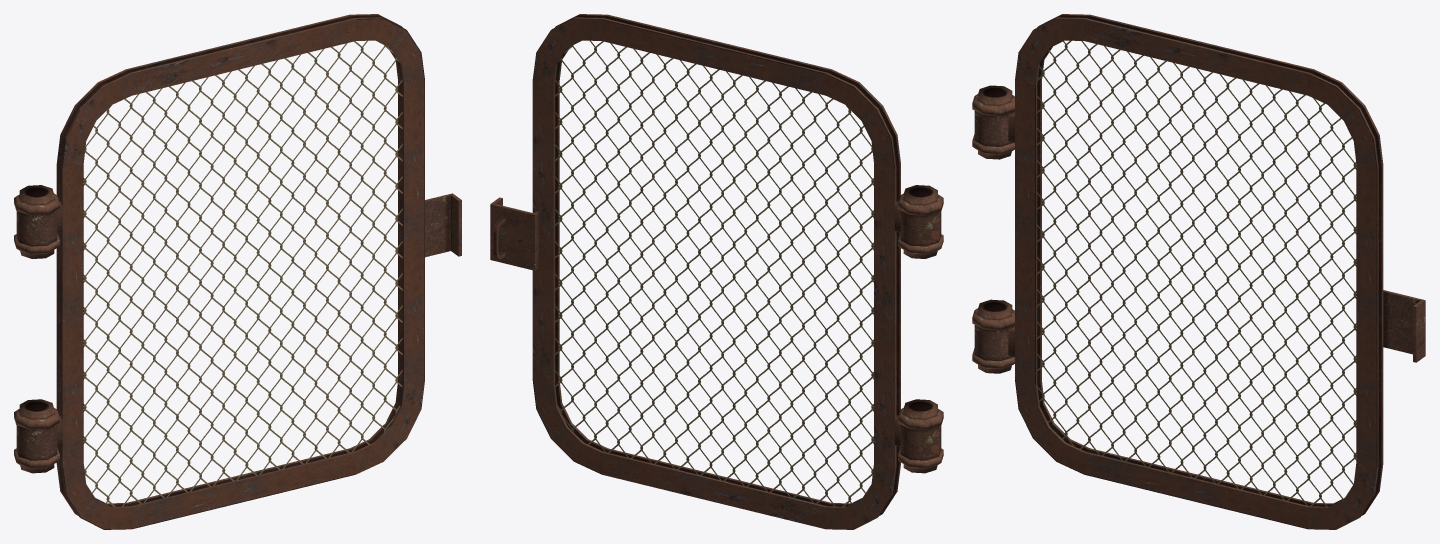
The model's file is swingdoor_scaffold_right.dae.
3 renders of one model, left to right at view 1: azimuth 30°, elevation 25°; view 2: azimuth 150°, elevation 25°; view 3: azimuth 330°, elevation 25°, orthographic.
Parts seen in each view (by area): view 1: door, polySurface213, polySurface212, hinges; view 2: door, polySurface213, polySurface212, hinges; view 3: door, polySurface213, polySurface212, hinges.
Part boxes in pixels (x1,y1,x2,y2): door: [56, 14, 424, 529]; polySurface213: [83, 40, 402, 506]; polySurface212: [16, 193, 461, 460]; hinges: [14, 185, 59, 473]; door: [493, 14, 900, 529]; polySurface213: [555, 40, 873, 506]; polySurface212: [490, 197, 941, 460]; hinges: [898, 185, 943, 473]; door: [1015, 14, 1383, 529]; polySurface213: [1037, 40, 1356, 506]; polySurface212: [974, 111, 1425, 362]; hinges: [972, 85, 1014, 373].
Size of the model in its own units: 2.17 by 2.13 by 0.2396.
